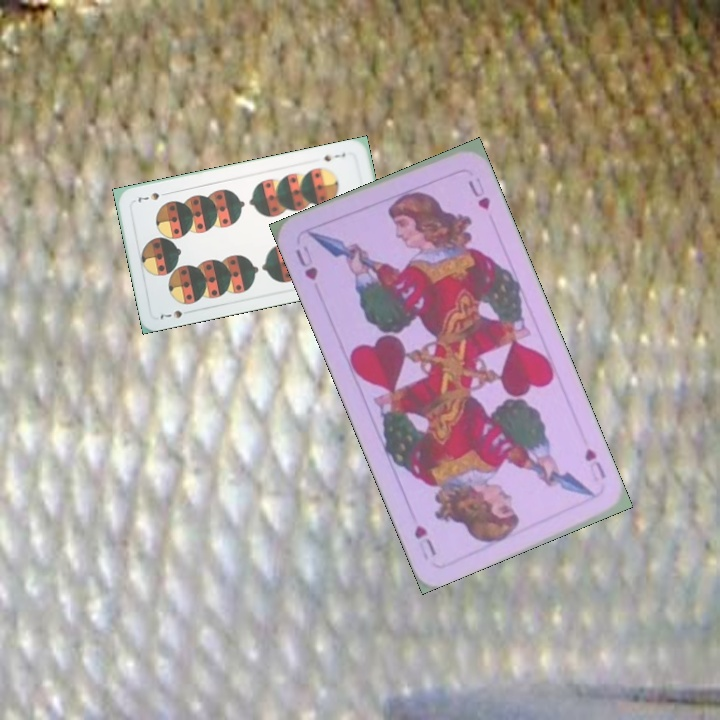HU: (291, 241, 321, 283), (580, 444, 609, 485)
S7: (156, 306, 185, 322), (320, 149, 348, 164)
